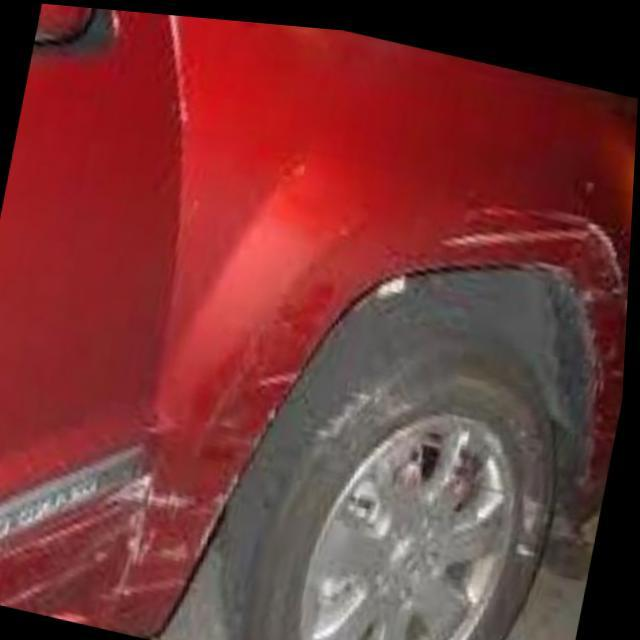rub: (0, 279, 313, 614), (445, 178, 631, 489)
